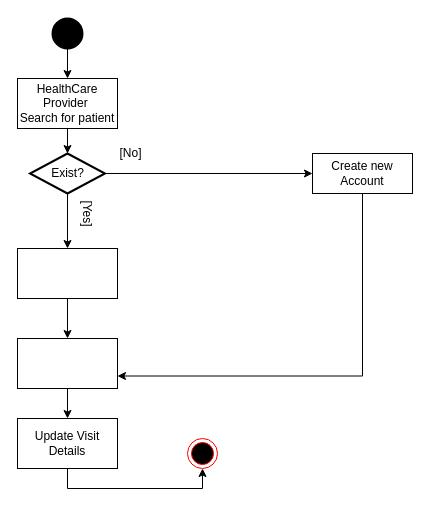
The diagram is 430 pixels wide and 514 high, and some of its shapes have lost their labels. Each missing label, with the box of its shape:
Record New Visit: (16, 338, 118, 388)
View Patient's visit history: (16, 248, 118, 298)
